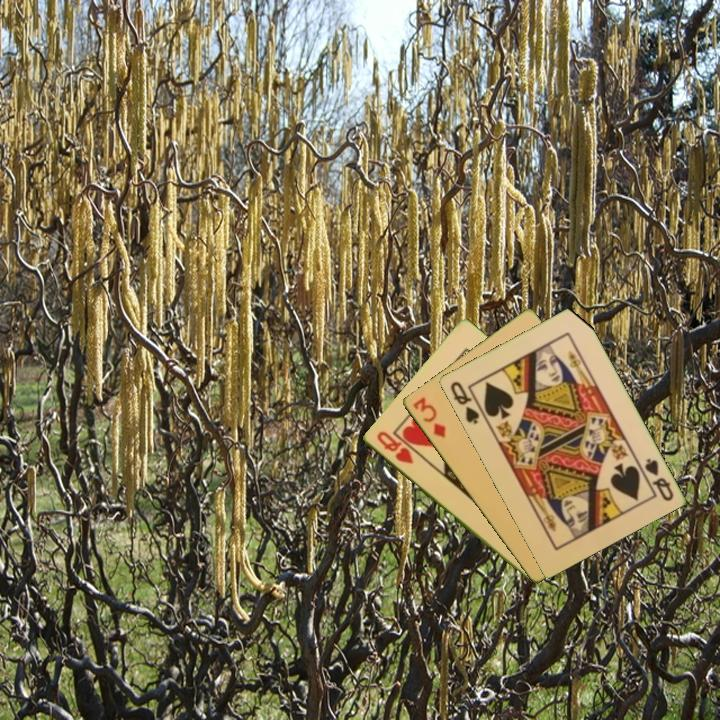3d: (409, 393, 448, 441)
Qh: (373, 428, 416, 467)
Qs: (446, 377, 482, 427), (641, 455, 676, 504)
